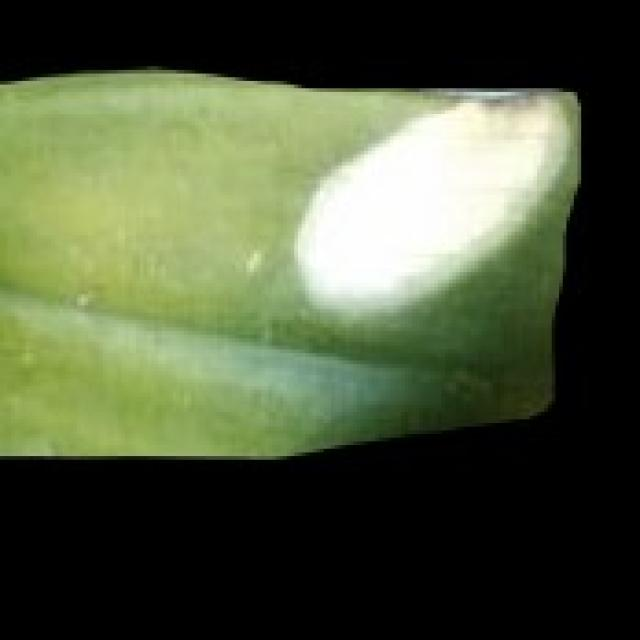mite: (0, 302, 37, 383), (438, 360, 493, 405), (63, 280, 103, 313), (441, 371, 474, 401), (70, 287, 92, 309)
spots: (0, 63, 581, 460)
